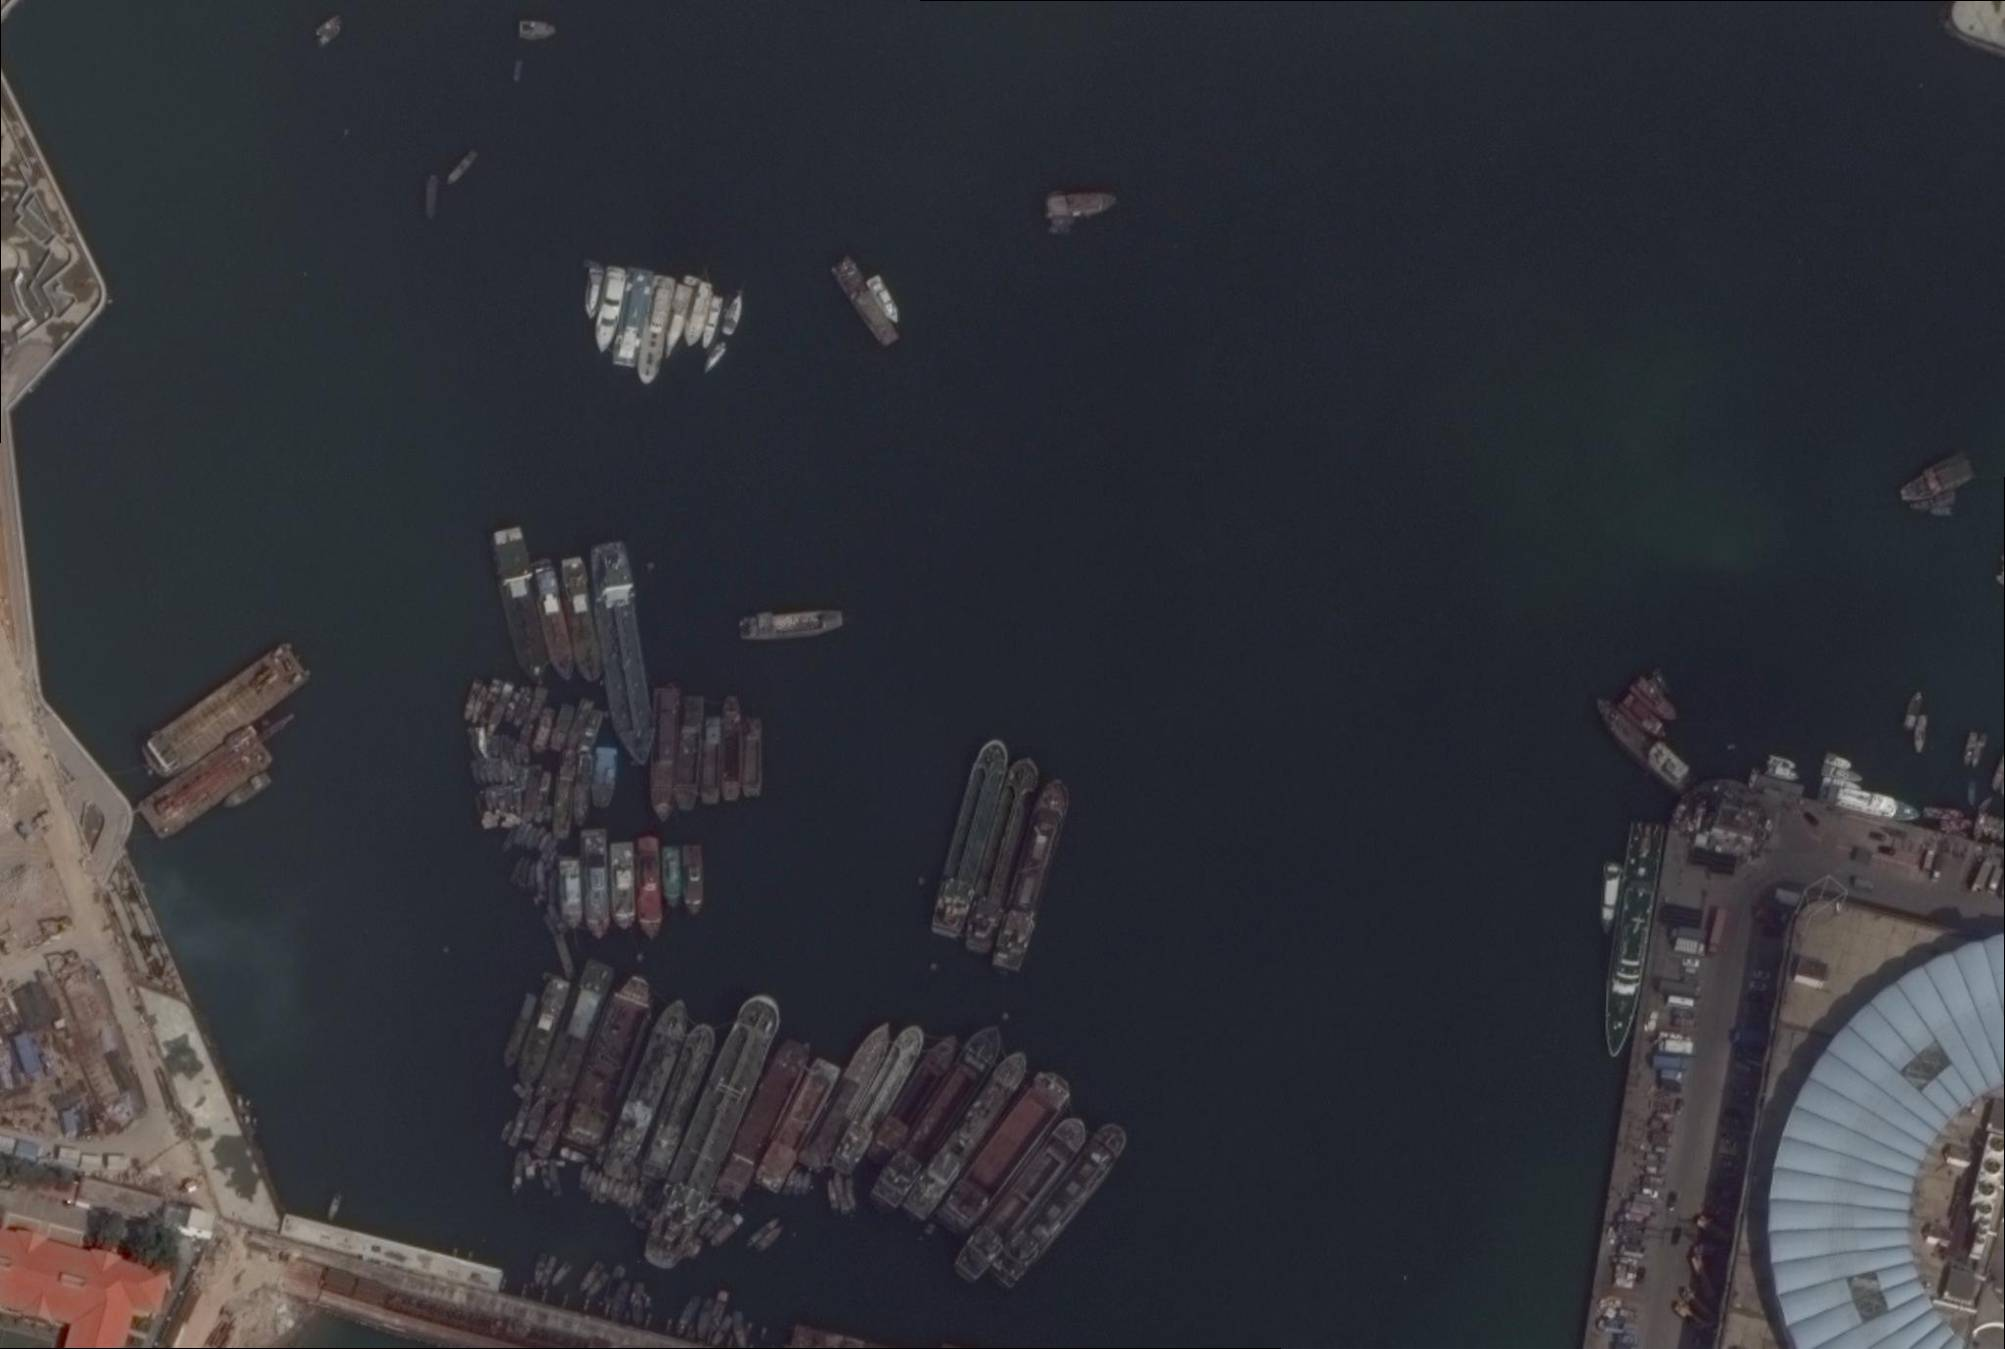ship: (638, 994, 786, 1274), (869, 1022, 1010, 1210), (930, 1064, 1078, 1244), (986, 1120, 1133, 1293), (948, 1110, 1094, 1284), (140, 641, 312, 781), (902, 1046, 1036, 1224), (557, 971, 662, 1159), (599, 995, 695, 1183), (987, 774, 1076, 973), (1596, 821, 1668, 1063), (929, 738, 1015, 939), (960, 754, 1045, 956), (586, 541, 659, 768), (713, 1037, 814, 1203), (796, 1016, 902, 1174), (829, 1021, 933, 1176), (137, 724, 274, 842), (863, 1030, 963, 1168), (638, 1021, 720, 1180), (534, 958, 619, 1104), (753, 1057, 841, 1195), (486, 524, 552, 687), (1587, 691, 1692, 790), (829, 257, 902, 351), (513, 976, 572, 1089), (555, 556, 605, 687), (531, 559, 577, 684), (634, 274, 677, 387), (1817, 781, 1924, 827), (611, 266, 655, 370), (649, 688, 680, 824), (1895, 455, 1976, 507), (739, 608, 844, 644), (673, 696, 704, 812), (589, 266, 628, 357), (580, 830, 610, 942), (501, 994, 540, 1070), (1629, 674, 1681, 727), (1620, 693, 1672, 745), (637, 837, 662, 939), (662, 285, 695, 361), (610, 843, 637, 933), (552, 750, 580, 840), (530, 1101, 570, 1159), (721, 696, 744, 801), (1048, 188, 1118, 221), (221, 771, 274, 815), (683, 282, 717, 349), (698, 717, 724, 804), (867, 274, 906, 325), (518, 687, 549, 745), (1597, 864, 1623, 936), (741, 717, 763, 796), (558, 857, 583, 930), (592, 748, 619, 808), (572, 754, 595, 827), (485, 684, 515, 738), (564, 699, 595, 750), (683, 845, 704, 917), (521, 1095, 551, 1143), (548, 705, 577, 753), (709, 1213, 747, 1250), (700, 297, 726, 349), (1912, 489, 1958, 518), (507, 1096, 533, 1147), (661, 845, 680, 909), (530, 708, 557, 754), (578, 709, 605, 754), (446, 151, 479, 187), (479, 679, 504, 726), (581, 268, 604, 321), (721, 294, 748, 337), (522, 768, 543, 824), (674, 1295, 703, 1335), (554, 933, 577, 982), (745, 1218, 780, 1248), (510, 690, 536, 730), (610, 1281, 634, 1323), (533, 772, 552, 824), (1901, 691, 1925, 732), (707, 1290, 730, 1332), (461, 681, 483, 723), (577, 1262, 605, 1293), (701, 342, 730, 373), (1821, 763, 1864, 784), (604, 1265, 626, 1302), (503, 687, 525, 724), (470, 687, 491, 726), (695, 1298, 715, 1338), (756, 1226, 784, 1253), (519, 21, 557, 41), (704, 1213, 732, 1241), (1766, 763, 1800, 784), (698, 1207, 723, 1238), (834, 1171, 850, 1213), (1961, 732, 1979, 768), (318, 24, 345, 48), (712, 1316, 732, 1347), (1823, 775, 1864, 790), (424, 178, 440, 218), (315, 15, 342, 38), (549, 1263, 572, 1289), (587, 1272, 610, 1298), (1970, 735, 1987, 769), (560, 1147, 592, 1165), (1824, 751, 1854, 769), (540, 1256, 557, 1287), (733, 1311, 747, 1349), (1915, 717, 1928, 754), (1767, 754, 1797, 771), (1924, 807, 1964, 819), (589, 1173, 604, 1204), (533, 1253, 548, 1284), (327, 1194, 342, 1223), (634, 1284, 644, 1325), (549, 1162, 561, 1197), (625, 1180, 640, 1207), (784, 1168, 799, 1195), (826, 1180, 838, 1210), (689, 1238, 704, 1262), (522, 1150, 534, 1179), (598, 1176, 610, 1204), (500, 1120, 515, 1143), (632, 1183, 646, 1207), (611, 1182, 625, 1203), (515, 1153, 522, 1189), (580, 1165, 590, 1189), (586, 1171, 598, 1192), (793, 1171, 804, 1195), (801, 1171, 811, 1195), (540, 1168, 551, 1189), (543, 805, 554, 827), (619, 1186, 629, 1206), (513, 62, 522, 81)
